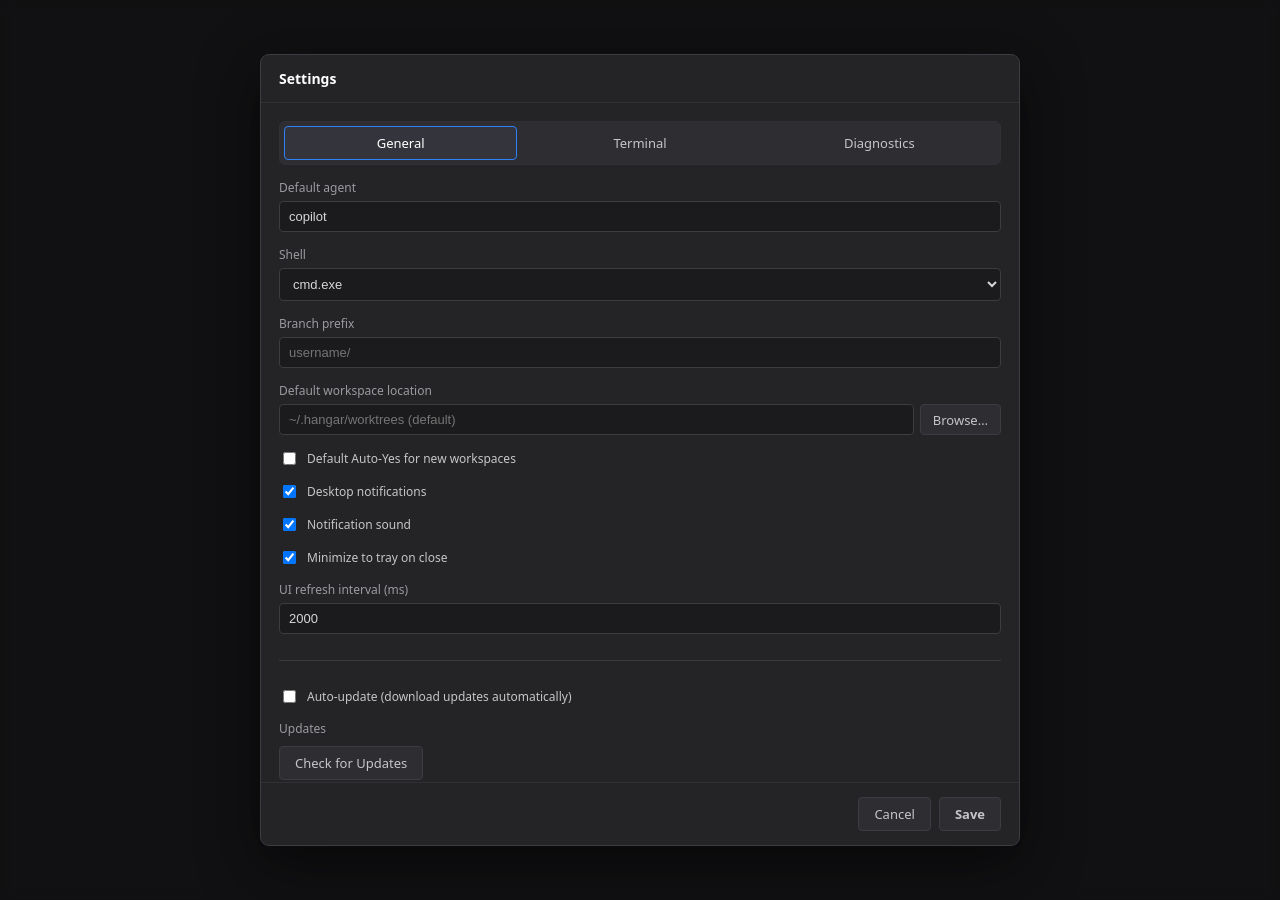
SettingsModal › shows terminal profile rows when the Terminal tab is selected
Click the tab "Terminal".
click(640, 143)  # box [523, 126, 757, 160]
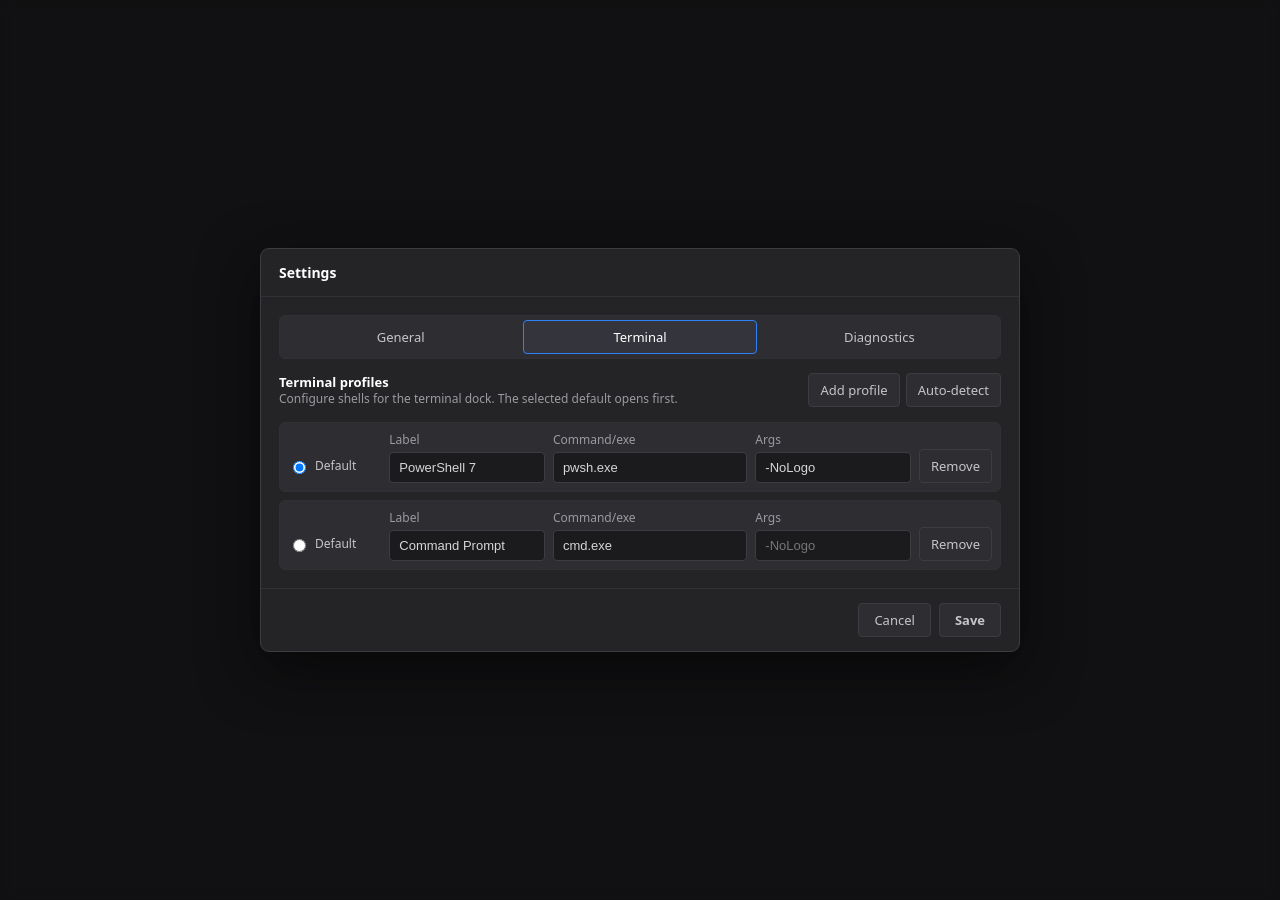
Now the 1st field showing "PowerShell 7" is shown, box [389, 452, 545, 483]
Now the 2nd field showing "Command Prompt" is shown, box [389, 530, 545, 561]
Now the field named "PowerShell 7 command" holds "pwsh.exe", box [553, 452, 747, 483]
